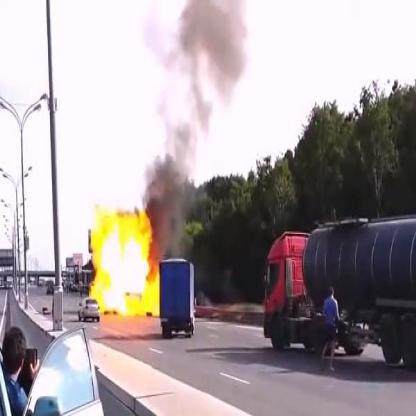fire: (90, 202, 160, 317)
